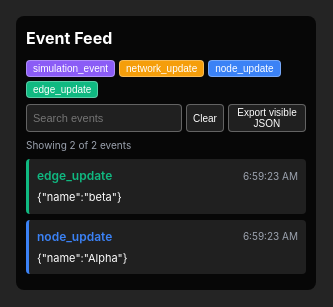
Scenario: EventFeed operations › search is trimmed and case-insensitive over channel and preview; plain string only
This screenshot has width=333, height=307.
Later steps or results of the test are not shown.
Type "  ALPHA  " into the field labelled "Search events" at [104, 118], box [26,104,182,132]
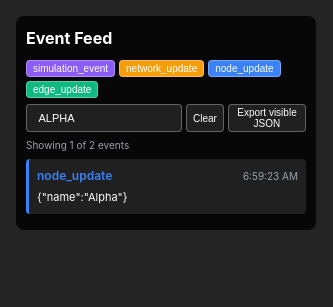
// Regex metacharacters match literally (or nothing) — never as patterns.
Replace the text in the field named "Search events" with ".*" at [104, 118], box [26,104,182,132]
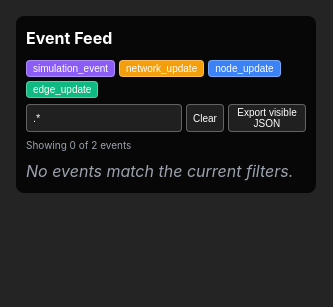
Result: the element named "Event feed" reads "No events match the current filters." at [26,161,293,181]
